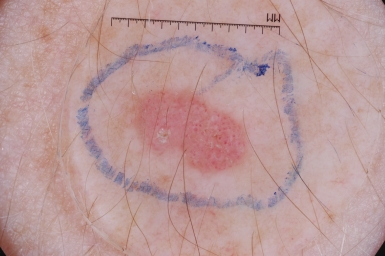seborrheic keratosis: (125, 76, 261, 185)
